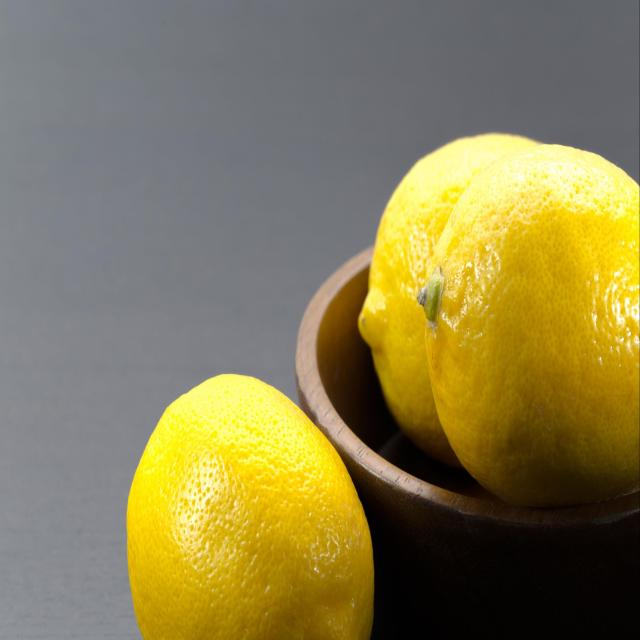lemon: (407, 134, 640, 519)
